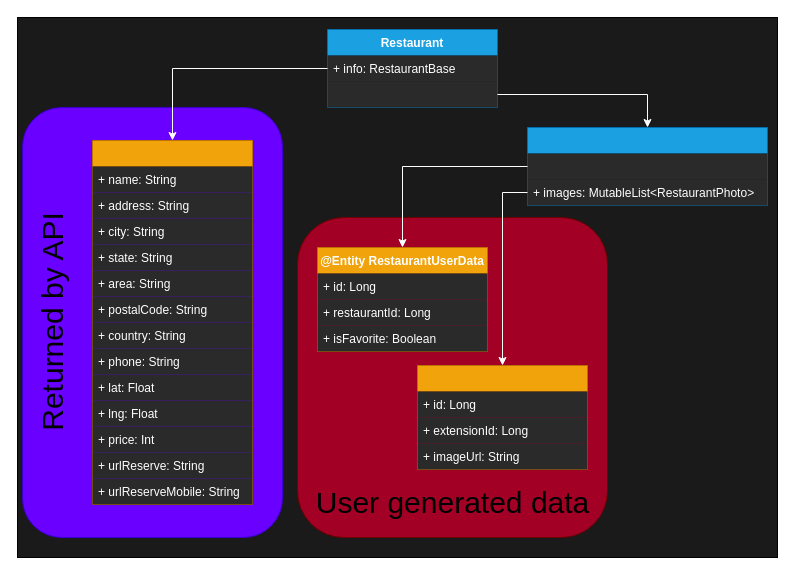
Image size: 795x575. Some labels were removed from this diagram. The box of each missing label's shape, as (x1, y1, x2, y2) in pixels:
+ ext: RestaurantExtension?: (327, 81, 497, 107)
+ userData: RestaurantUserData: (527, 153, 767, 179)
@Entity RestaurantBase: (92, 140, 252, 504)
@Entity RestaurantPhoto: (416, 364, 588, 470)
RestaurantExtension: (526, 126, 768, 206)
